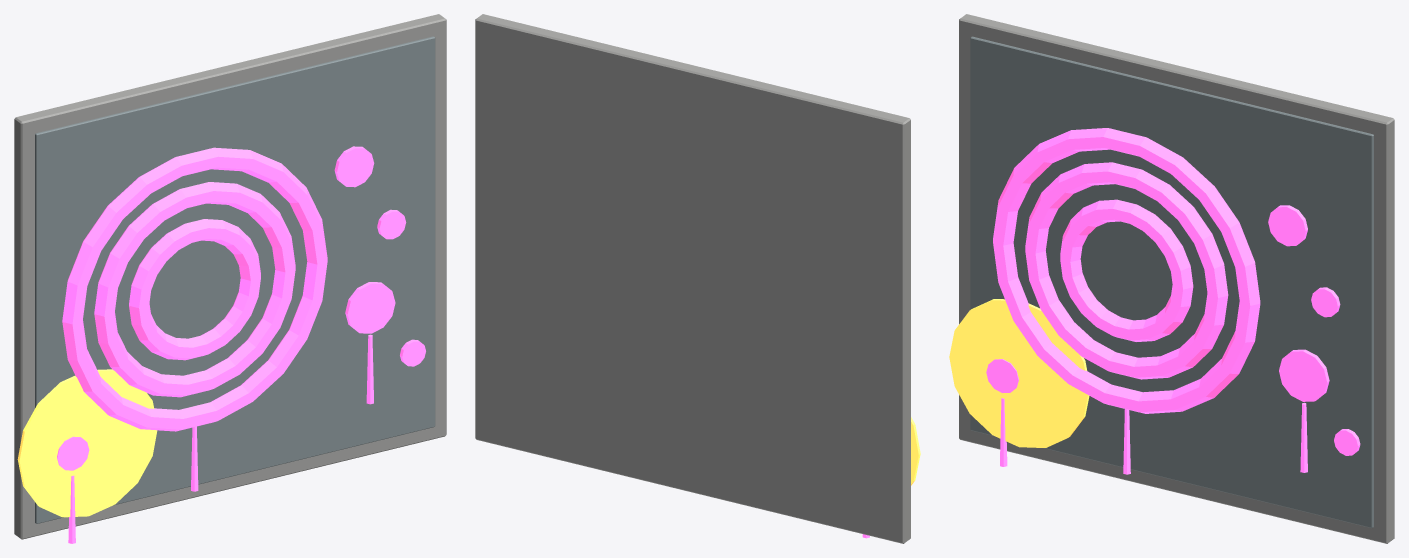
Rendered from cyberpunk-apartment-and-neon-block-graffiti-panel-65ca0681__37798.glb.
3 views of the same model, side by side, from view 1: azimuth 30°, elevation 25°; view 2: azimuth 150°, elevation 25°; view 3: azimuth 330°, elevation 25° (orthographic).
Visible parts, largest first — view 1: graffiti-panel; view 2: graffiti-panel; view 3: graffiti-panel.
Part boxes in pixels (bbox=[...]): graffiti-panel: bbox=[14, 14, 446, 543]; graffiti-panel: bbox=[475, 14, 920, 543]; graffiti-panel: bbox=[949, 14, 1394, 543].
Size of the model in its own units: 1.62 by 1.54 by 0.1039.
